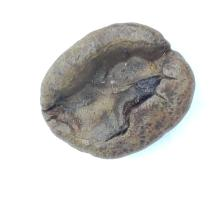NG: (51, 39, 172, 145)
